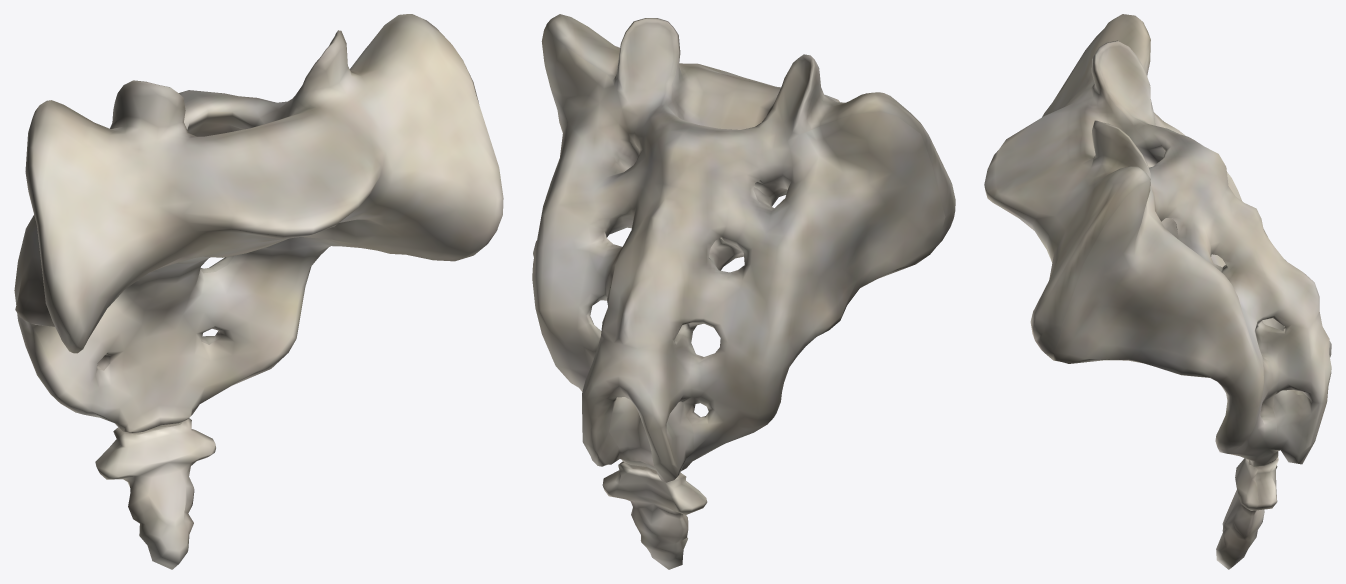
Rendered from sacrum-coccyx.glb.
The picture shows the model from 3 angles, left to right: view 1: azimuth 30°, elevation 25°; view 2: azimuth 150°, elevation 25°; view 3: azimuth 270°, elevation 25°; orthographic projection. The views are drawn at different scales.
Visible parts, largest first — view 1: Sacrum, Coccyx; view 2: Sacrum, Coccyx; view 3: Sacrum, Coccyx.
Boxes of the visible parts, x1=… form: Sacrum: x1=14, y1=14, x2=503, y2=433; Coccyx: x1=95, y1=418, x2=215, y2=569; Sacrum: x1=532, y1=14, x2=955, y2=482; Coccyx: x1=602, y1=461, x2=707, y2=569; Sacrum: x1=984, y1=14, x2=1331, y2=466; Coccyx: x1=1216, y1=457, x2=1278, y2=569.
Bounding box in the file's own units: 0.1178 × 0.1401 × 0.0906.
2 materials, 2 textured.
